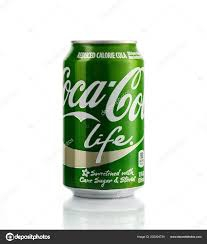can: (59, 37, 145, 201)
